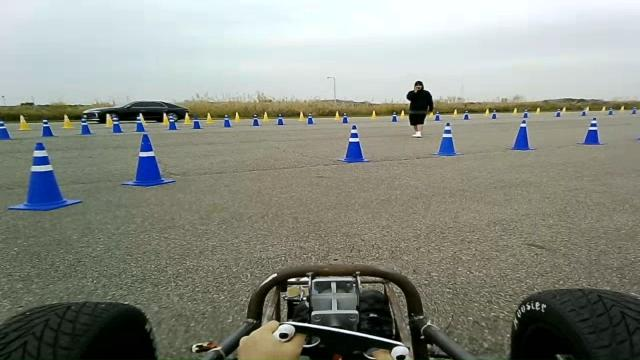blue cone: (7, 141, 82, 211), (121, 133, 175, 187), (336, 124, 372, 163), (430, 122, 463, 156), (505, 120, 536, 150), (576, 117, 604, 145)
